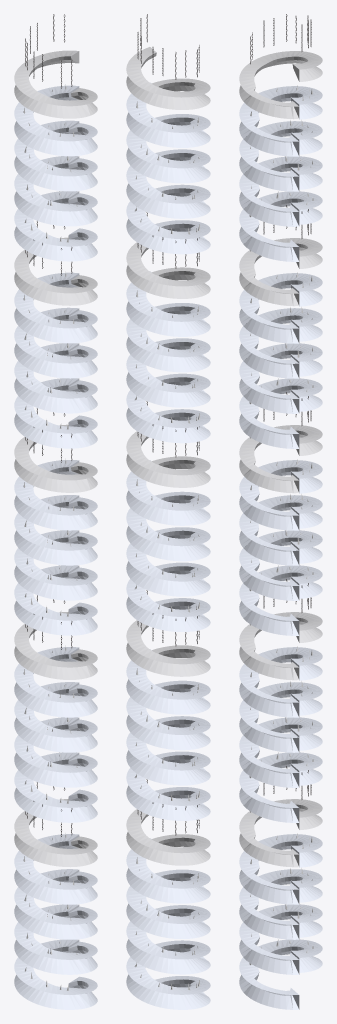
3 renders of one model, left to right at view 1: azimuth 90°, elevation 25°; view 2: azimuth 150°, elevation 25°; view 3: azimuth 330°, elevation 25°, orthographic.
Visible parts, largest first — view 1: Circle9; view 2: Circle9; view 3: Circle9.
Boxes of the visible parts, left/top/right/bottom form: Circle9: left=14, top=14, right=97, bottom=1009; Circle9: left=126, top=14, right=210, bottom=1009; Circle9: left=239, top=14, right=322, bottom=1009.
Bounding box in the file's own units: 38.86 × 503 × 38.86.
Materials: 1 (1 with a texture image).
